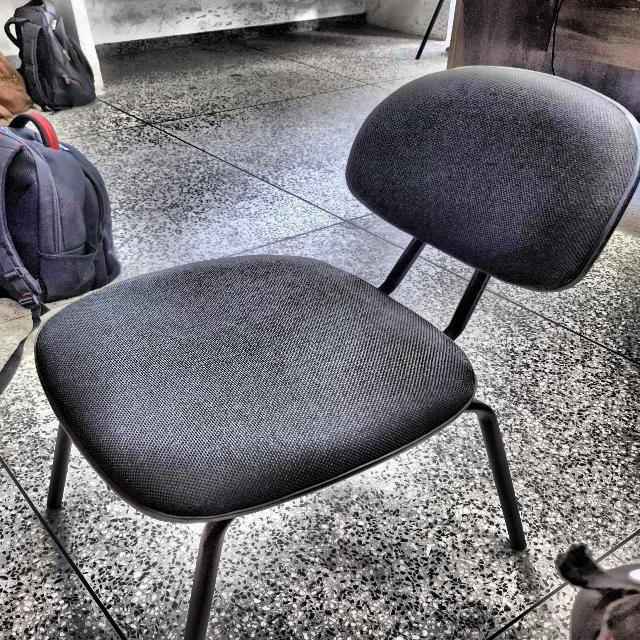cadeira: (29, 43, 640, 640)
